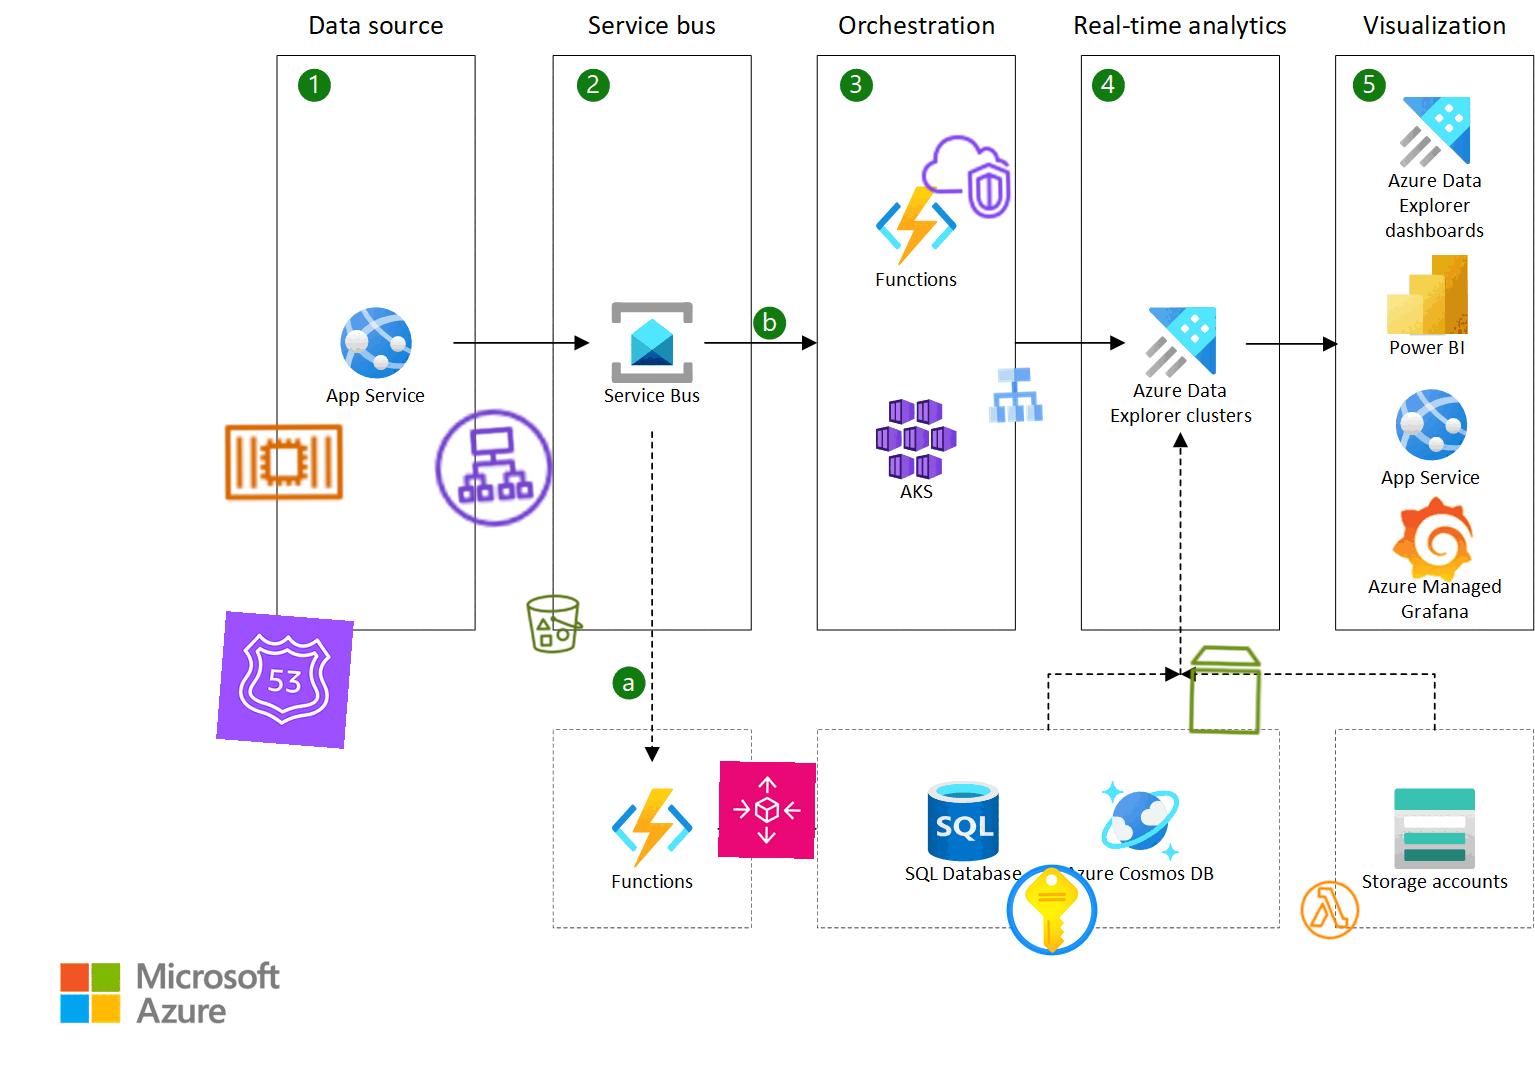aws_amazon_route_53: (216, 611, 354, 749)
aws_auto_scaling: (718, 761, 816, 859)
aws_elastic_block_store_volume: (1176, 640, 1276, 740)
aws_elastic_container_service_container_2: (219, 397, 349, 527)
aws_elastic_load_balancing_application_load_balancer: (425, 399, 562, 537)
aws_lambda_lambda_function: (1296, 876, 1364, 944)
aws_simple_storage_service_bucket_with_objects: (521, 591, 588, 658)
aws_vpc_virtual_private_cloud_vpc: (916, 127, 1016, 227)
azure_key_vaults: (1003, 861, 1101, 959)
gcp_cloud_load_balancing: (981, 361, 1049, 429)
